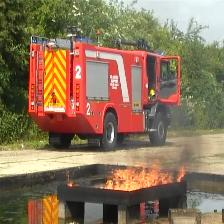fire: (103, 161, 173, 191), (176, 164, 187, 183)
